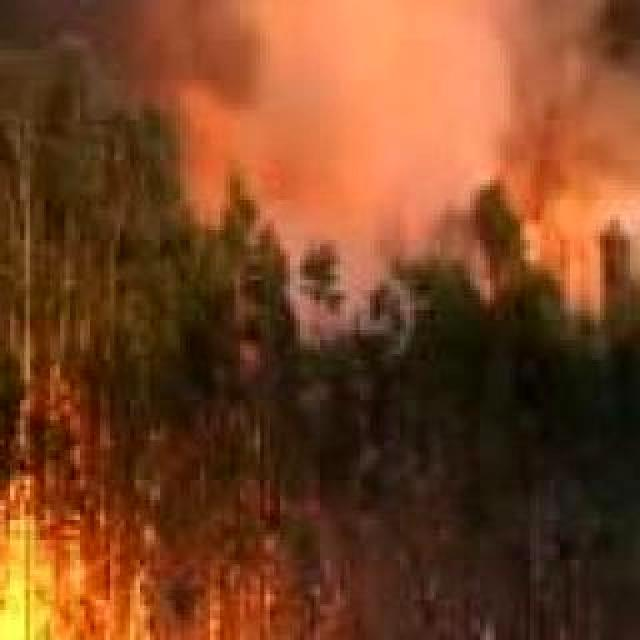fire: (0, 476, 302, 640), (502, 128, 578, 250)
